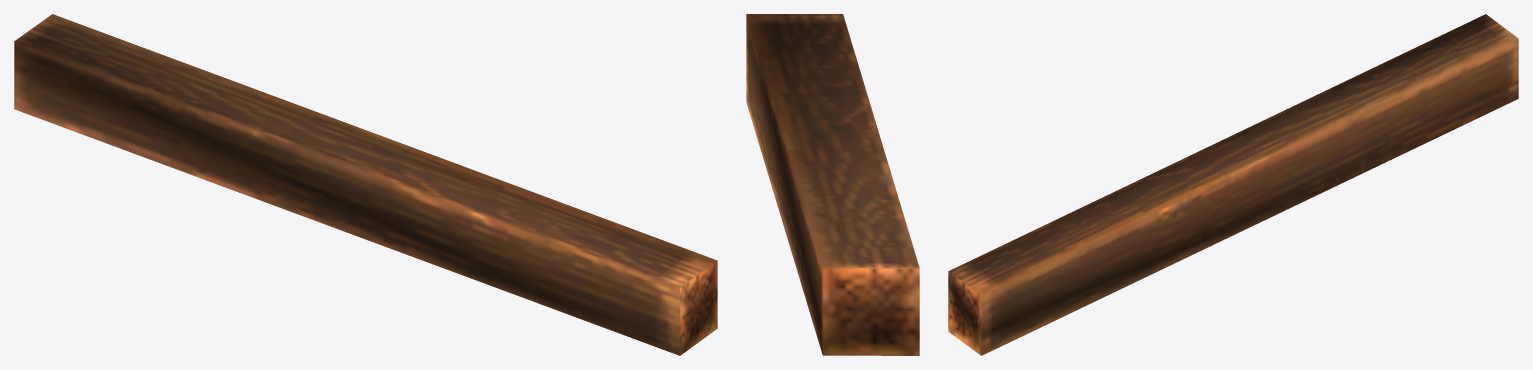
The model's file is SWORDLIGHT20_JAILBRACE08.fbx.
3 renders of one model, left to right at view 1: azimuth 30°, elevation 25°; view 2: azimuth 150°, elevation 25°; view 3: azimuth 270°, elevation 25°, orthographic. The views are drawn at different scales.
Visible parts, largest first — view 1: SWORDLIGHT20_JAILBRACE08; view 2: SWORDLIGHT20_JAILBRACE08; view 3: SWORDLIGHT20_JAILBRACE08.
Boxes of the visible parts, x1,y1,x2,y2 form: SWORDLIGHT20_JAILBRACE08: [14, 14, 717, 355]; SWORDLIGHT20_JAILBRACE08: [746, 14, 919, 355]; SWORDLIGHT20_JAILBRACE08: [948, 14, 1518, 355].
Bounding box in the file's own units: 25830 × 10671 × 34341.
Materials: 1 (1 with a texture image).
